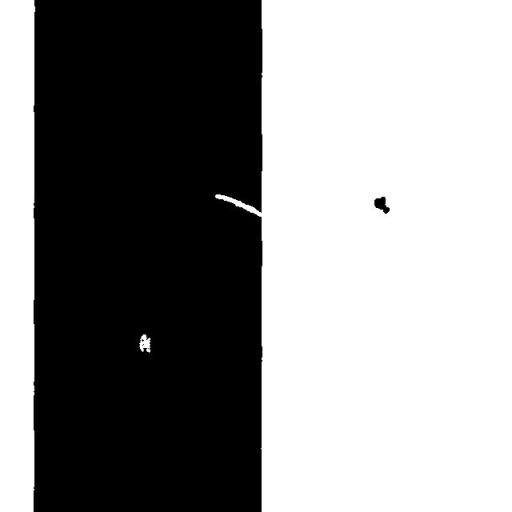copper: (366, 189, 397, 221)
mousebite: (207, 186, 271, 224)
pin-hole: (131, 326, 158, 360)
